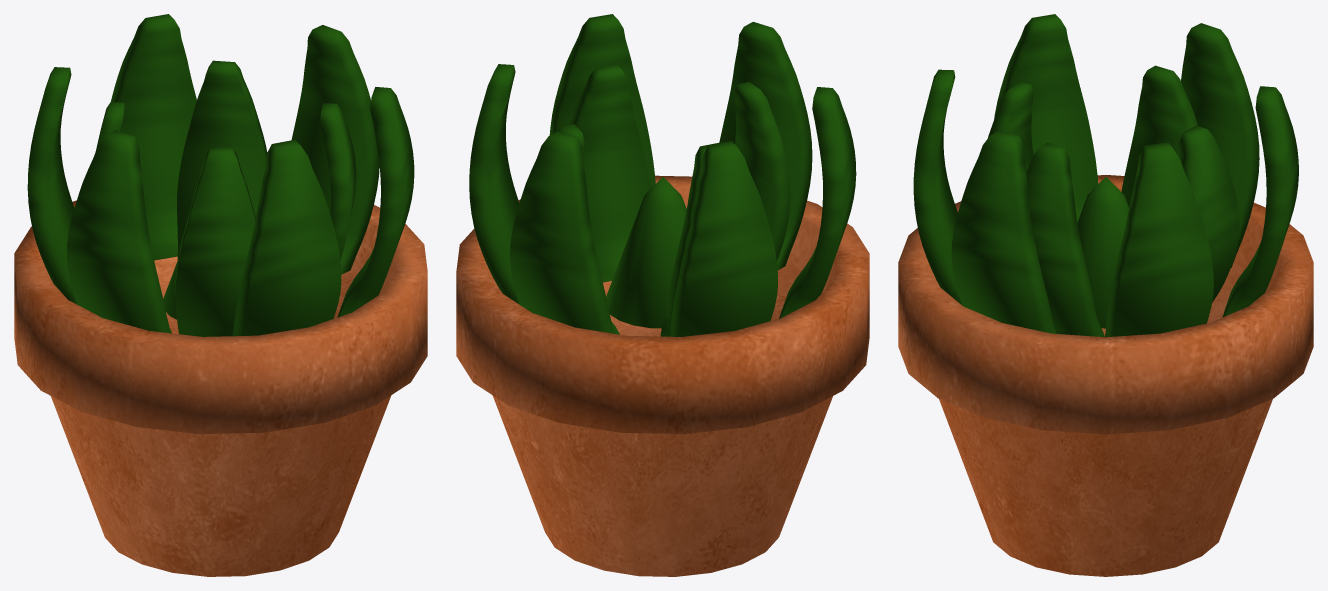
File: Planta00.fbx
3 renders of one model, left to right at view 1: azimuth 30°, elevation 25°; view 2: azimuth 150°, elevation 25°; view 3: azimuth 270°, elevation 25°, orthographic.
Parts seen in each view (by area): view 1: Planta00; view 2: Planta00; view 3: Planta00.
Part boxes in pixels (x1=…): Planta00: x1=14, y1=14, x2=427, y2=576; Planta00: x1=456, y1=14, x2=869, y2=576; Planta00: x1=898, y1=14, x2=1313, y2=576.
Bounding box in the file's own units: 70.08 × 82.73 × 70.08.
2 materials, 2 textured.
